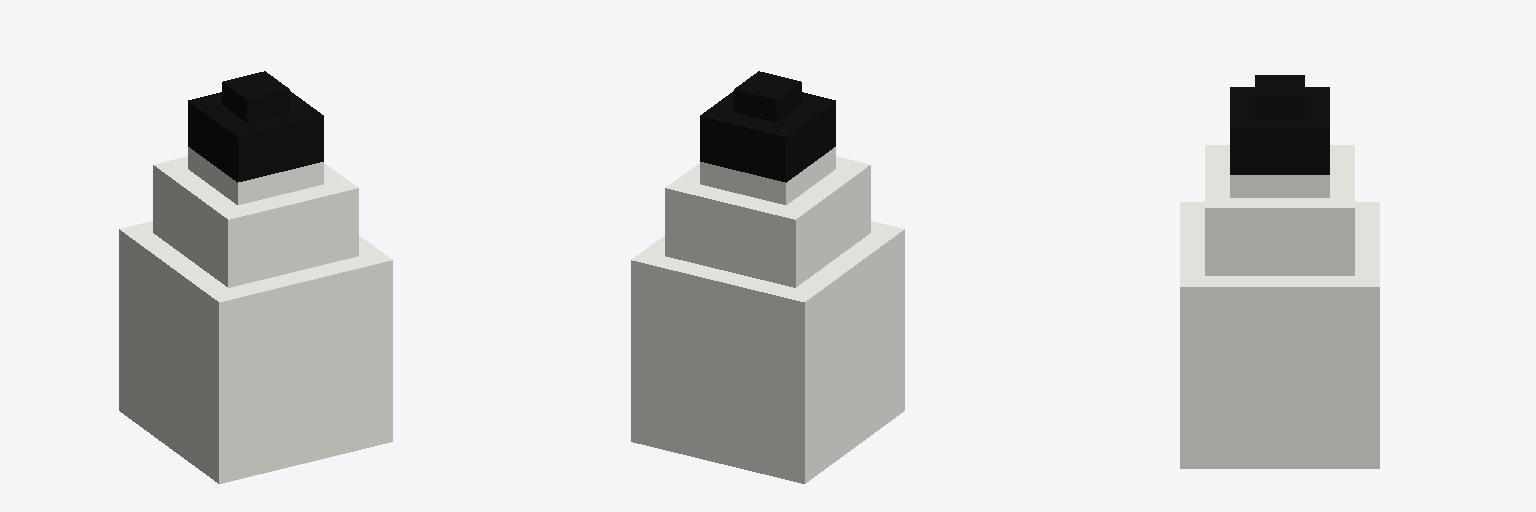
3 renders of one model, left to right at view 1: azimuth 30°, elevation 25°; view 2: azimuth 150°, elevation 25°; view 3: azimuth 270°, elevation 25°, orthographic.
Visible parts, largest first — view 1: lightBulb; view 2: lightBulb; view 3: lightBulb.
Boxes of the visible parts, box(x1,y1,x2,y2) form: lightBulb: box(119, 71, 392, 483); lightBulb: box(631, 71, 904, 483); lightBulb: box(1180, 75, 1379, 468).
Bounding box in the file's own units: 0.05 × 0.0938 × 0.05.
1 materials, 1 textured.